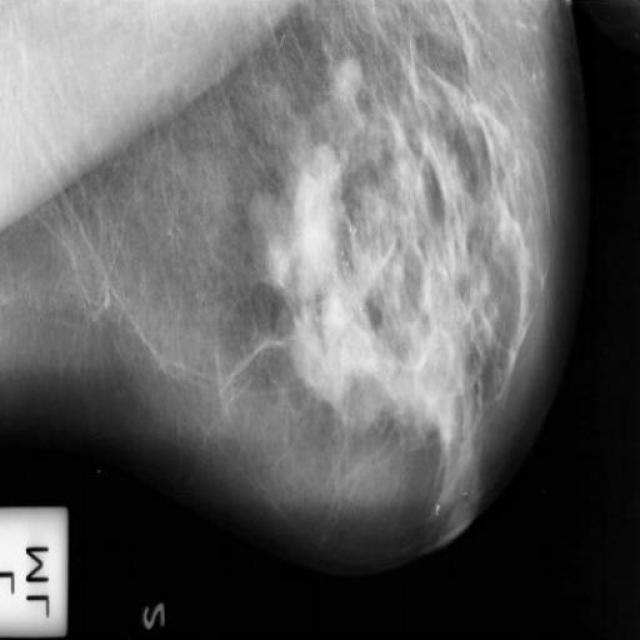cancer: (293, 264, 349, 356)
